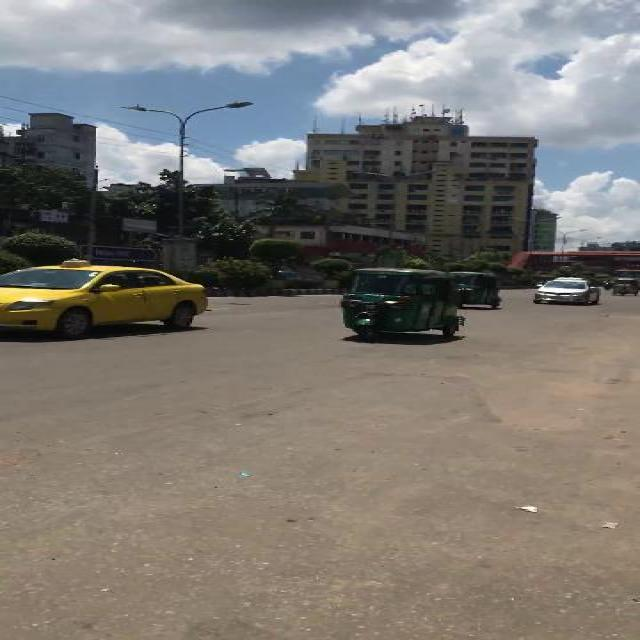vehicle: (5, 258, 211, 337), (340, 267, 466, 343), (450, 271, 501, 309), (533, 279, 600, 307), (613, 278, 638, 296)
